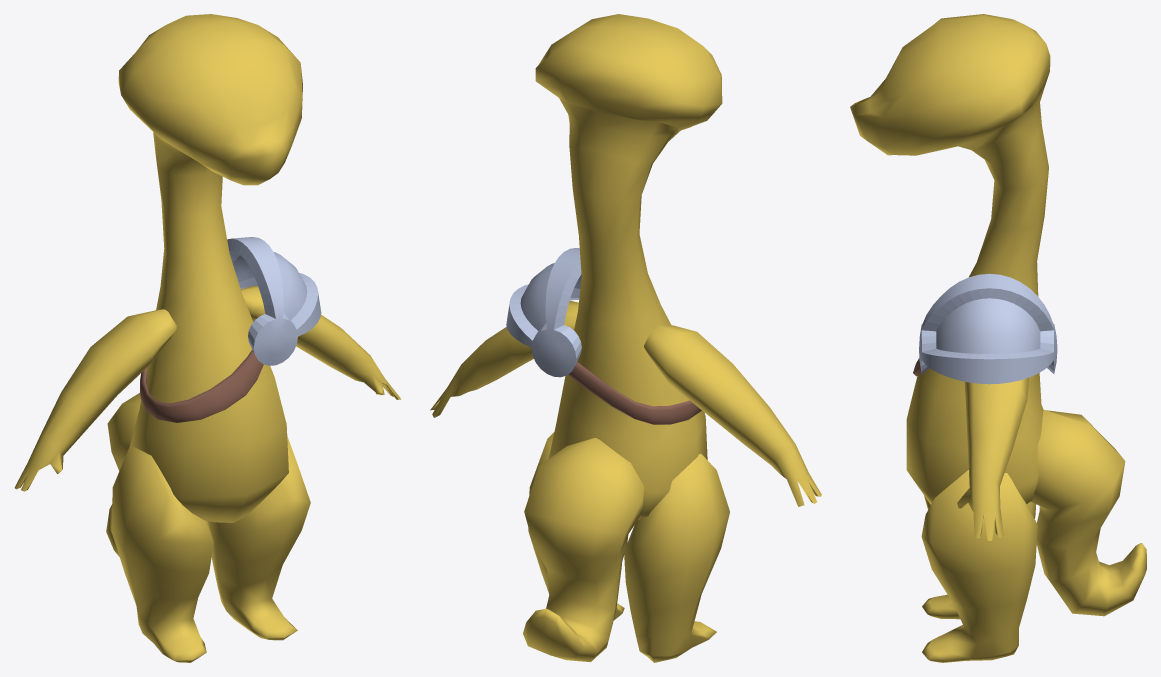
File: snek.fbx
3 renders of one model, left to right at view 1: azimuth 30°, elevation 25°; view 2: azimuth 150°, elevation 25°; view 3: azimuth 270°, elevation 25°, orthographic.
Parts seen in each view (by area): view 1: polySurface1, polySurface3, polySurface2, polySurface5, pSphere1, polySurface6, pCube7, polySurface4; view 2: polySurface1, polySurface4, polySurface3, polySurface5, pSphere1, polySurface6, pCube7, polySurface2; view 3: polySurface1, polySurface4, polySurface2, pSphere1, polySurface6, polySurface3.
Part boxes in pixels (<box>): polySurface1: <box>118,14,302,522</box>; polySurface3: <box>111,445,213,662</box>; polySurface2: <box>207,436,310,640</box>; polySurface5: <box>14,309,176,491</box>; pSphere1: <box>227,237,321,365</box>; polySurface6: <box>241,286,401,399</box>; pCube7: <box>140,349,263,422</box>; polySurface4: <box>106,393,141,556</box>; polySurface1: <box>535,14,722,519</box>; polySurface4: <box>523,438,644,661</box>; polySurface3: <box>624,453,729,662</box>; polySurface5: <box>644,325,821,506</box>; pSphere1: <box>506,248,581,377</box>; polySurface6: <box>430,300,578,417</box>; pCube7: <box>568,361,701,424</box>; polySurface2: <box>528,432,628,620</box>; polySurface1: <box>850,14,1050,504</box>; polySurface4: <box>1031,410,1146,616</box>; polySurface2: <box>921,470,1037,662</box>; pSphere1: <box>919,273,1057,384</box>; polySurface6: <box>957,377,1029,540</box>; polySurface3: <box>922,495,1036,619</box>.
Bounding box in the file's own units: 152 × 232 × 102.
